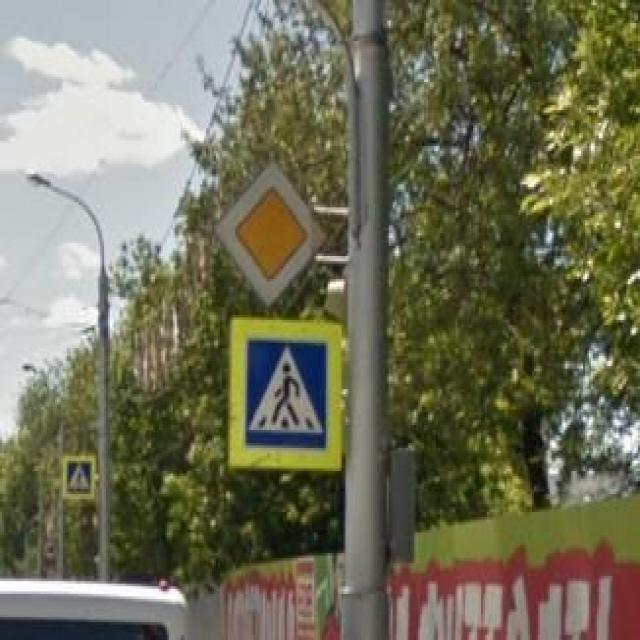Droga z pierwszenstwem: (214, 159, 326, 307)
Przejscie dla pieszych: (228, 312, 344, 474), (63, 456, 96, 502)
